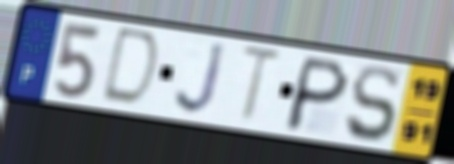5: (49, 18, 107, 102)
D: (97, 25, 164, 111)
J: (172, 41, 229, 118)
P: (280, 53, 353, 135)
S: (342, 63, 401, 146)
T: (237, 42, 287, 129)
